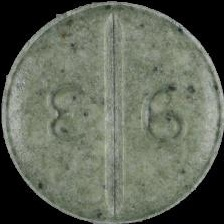66116-432: (0, 0, 224, 224)
